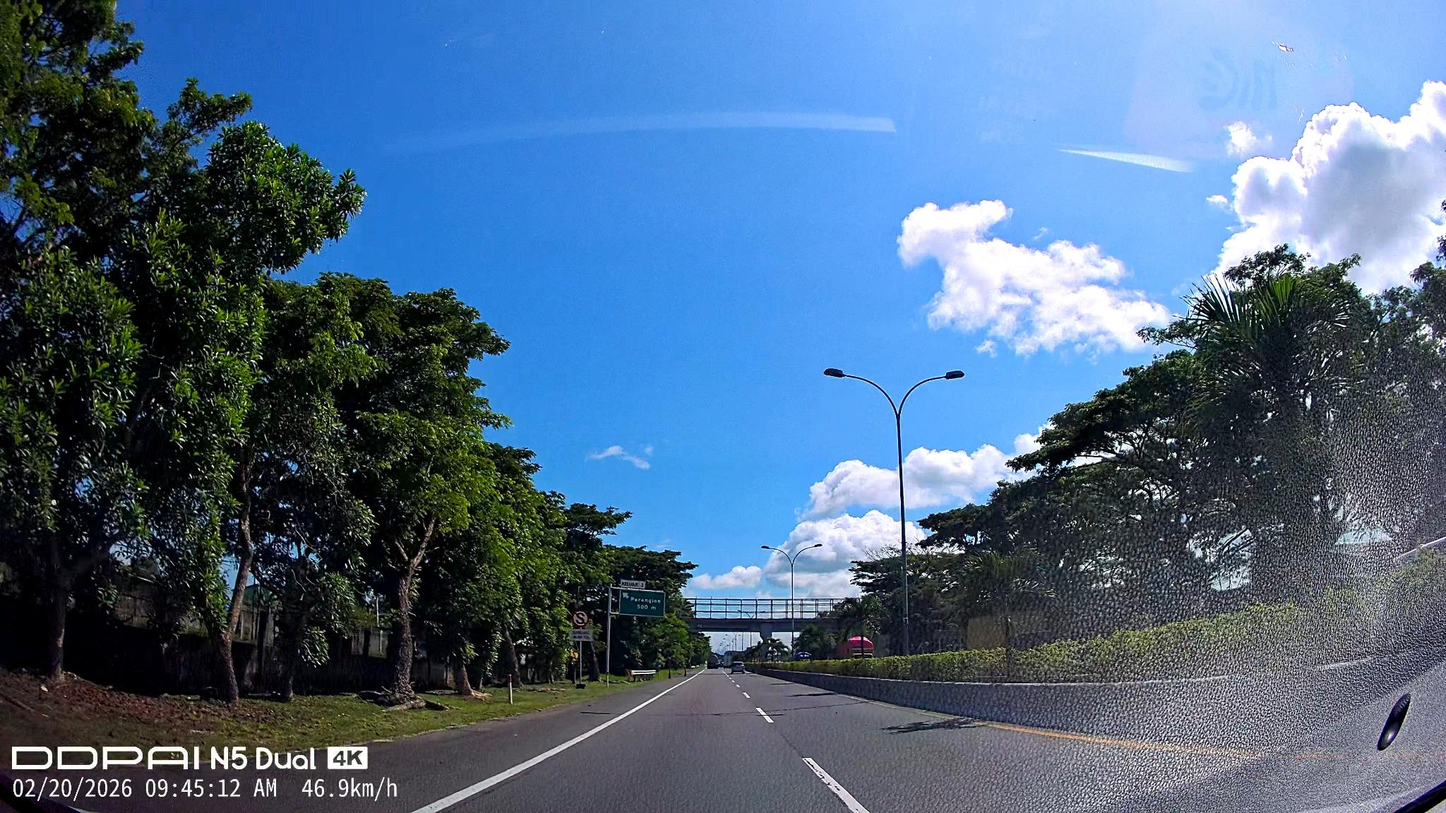rambu_teks: (618, 589, 666, 618)
